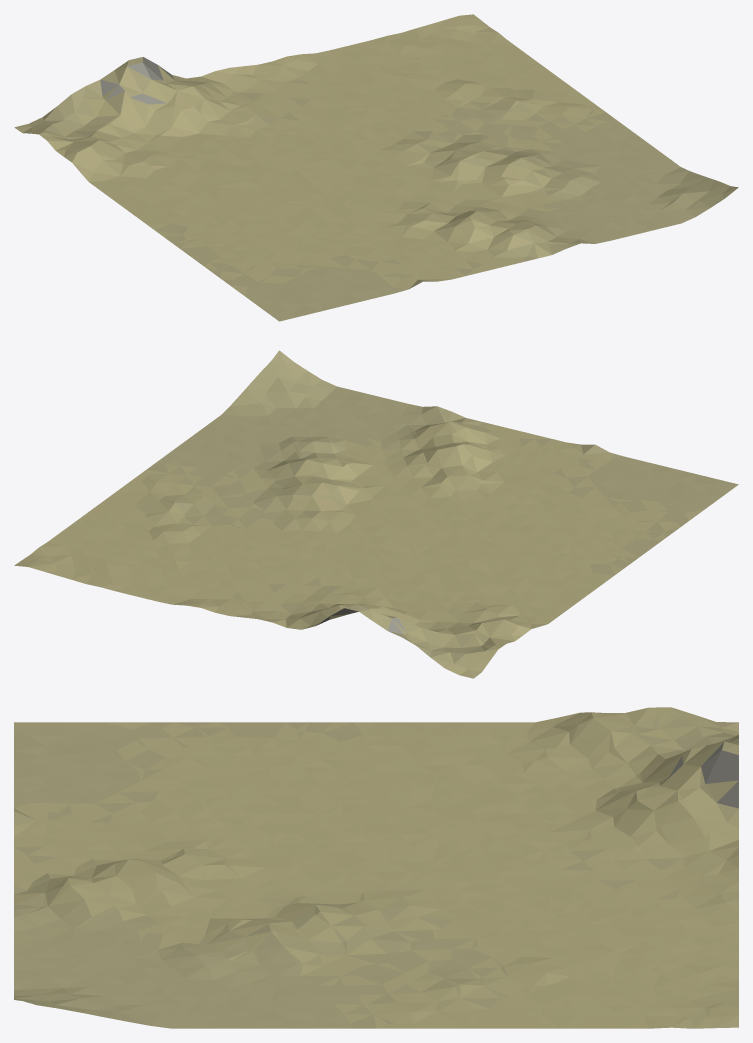
Rendered from Ground_4_-5.glb.
3 renders of one model, top to bottom at view 1: azimuth 30°, elevation 25°; view 2: azimuth 150°, elevation 25°; view 3: azimuth 270°, elevation 25°, orthographic. The views are drawn at different scales.
Visible parts, largest first — view 1: Ground_4_-5; view 2: Ground_4_-5; view 3: Ground_4_-5.
Boxes of the visible parts, x1,y1,x2,y2 form: Ground_4_-5: [14, 14, 738, 321]; Ground_4_-5: [14, 350, 738, 678]; Ground_4_-5: [14, 707, 738, 1028].
Size of the model in its own units: 768 by 63.09 by 768.
